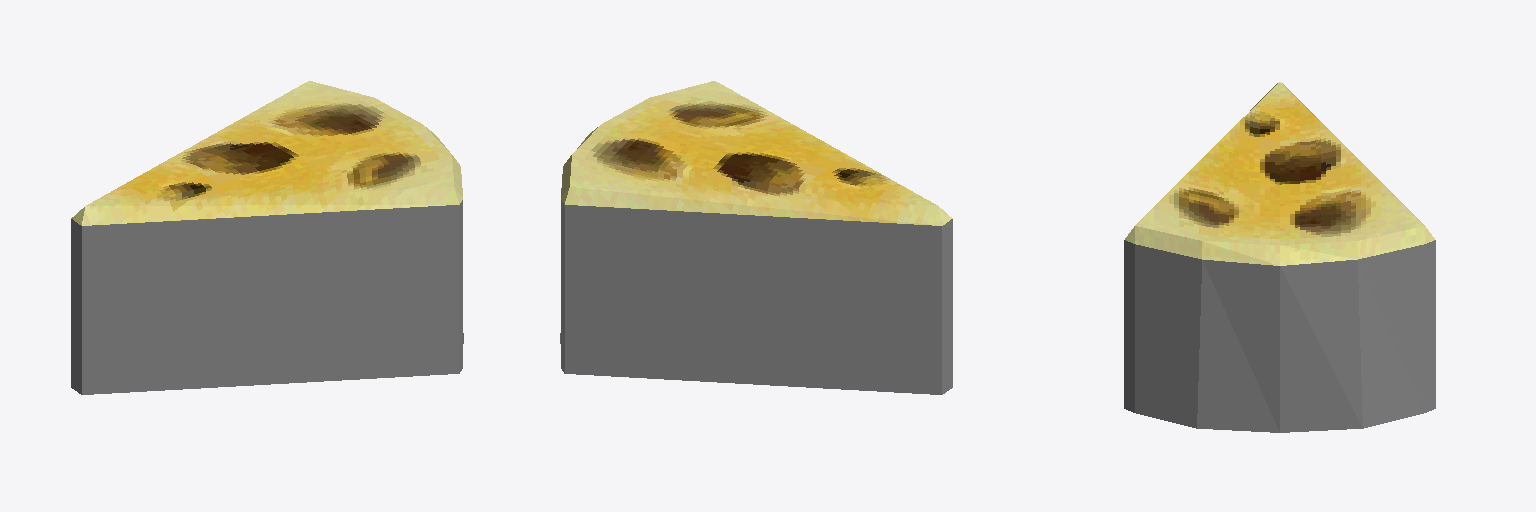
The picture shows the model from 3 angles: view 1: azimuth 30°, elevation 25°; view 2: azimuth 150°, elevation 25°; view 3: azimuth 270°, elevation 25°; orthographic projection.
Parts seen in each view (by area): view 1: part0_texture18, part1_texture19; view 2: part0_texture18, part1_texture19; view 3: part0_texture18, part1_texture19.
Part boxes in pixels (left/top/right/bottom): part0_texture18: left=71, top=200, right=463, bottom=394; part1_texture19: left=71, top=81, right=462, bottom=225; part0_texture18: left=560, top=200, right=952, bottom=394; part1_texture19: left=561, top=81, right=952, bottom=225; part0_texture18: left=1124, top=240, right=1435, bottom=432; part1_texture19: left=1125, top=82, right=1434, bottom=265.
Size of the model in its own units: 0.3125 by 0.1523 by 0.2344.
2 materials, 1 textured.